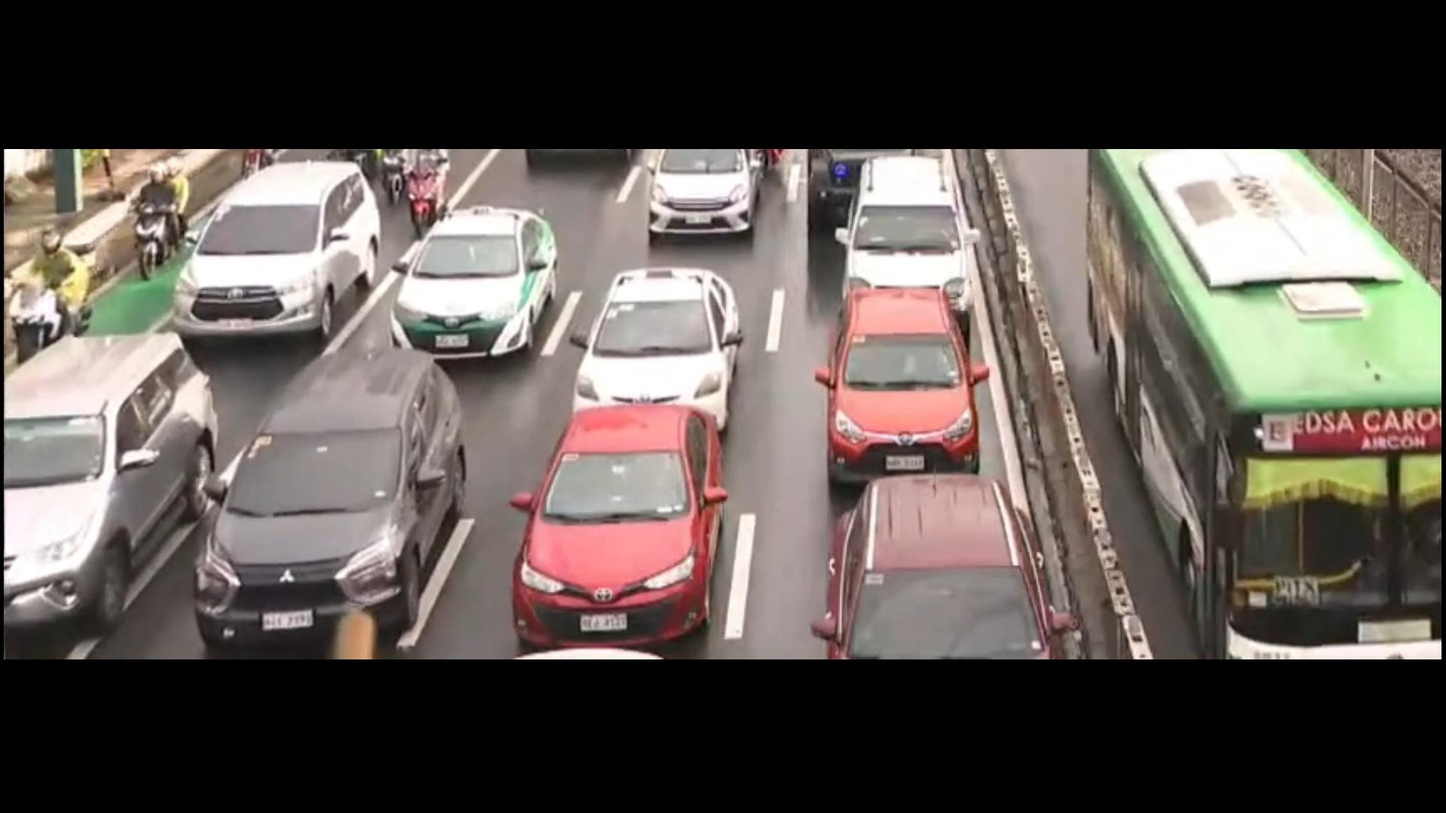Motorcycle: (0, 211, 110, 362), (126, 155, 206, 274), (405, 147, 456, 230)
SUV: (185, 345, 490, 643), (0, 324, 228, 633), (813, 473, 1045, 670), (171, 162, 386, 348), (834, 155, 1003, 307)
Sedan: (504, 390, 754, 643), (561, 253, 757, 428), (811, 289, 980, 483), (388, 204, 563, 366)
